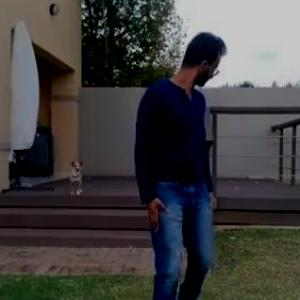follow: (132, 16, 248, 299)
